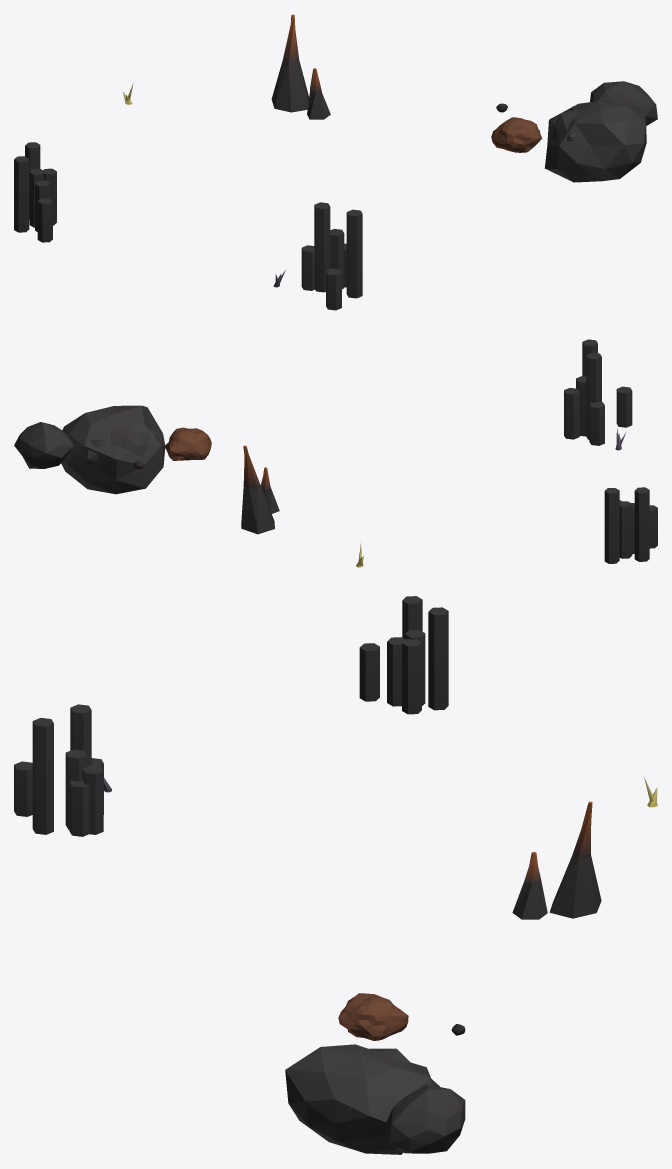
File: ash_land_scatter_c17_29.glb
3 renders of one model, top to bottom at view 1: azimuth 30°, elevation 25°; view 2: azimuth 150°, elevation 25°; view 3: azimuth 270°, elevation 25°, orthographic. The views are drawn at different scales.
Parts seen in each view (by area): view 1: ash_land_scatter_c17_29; view 2: ash_land_scatter_c17_29; view 3: ash_land_scatter_c17_29.
Boxes of the visible parts, x1,y1,x2,y2 form: ash_land_scatter_c17_29: (14, 14, 657, 310); ash_land_scatter_c17_29: (14, 339, 657, 567); ash_land_scatter_c17_29: (14, 596, 657, 1154).
Size of the model in its own units: 65.33 by 14.98 by 43.22.
